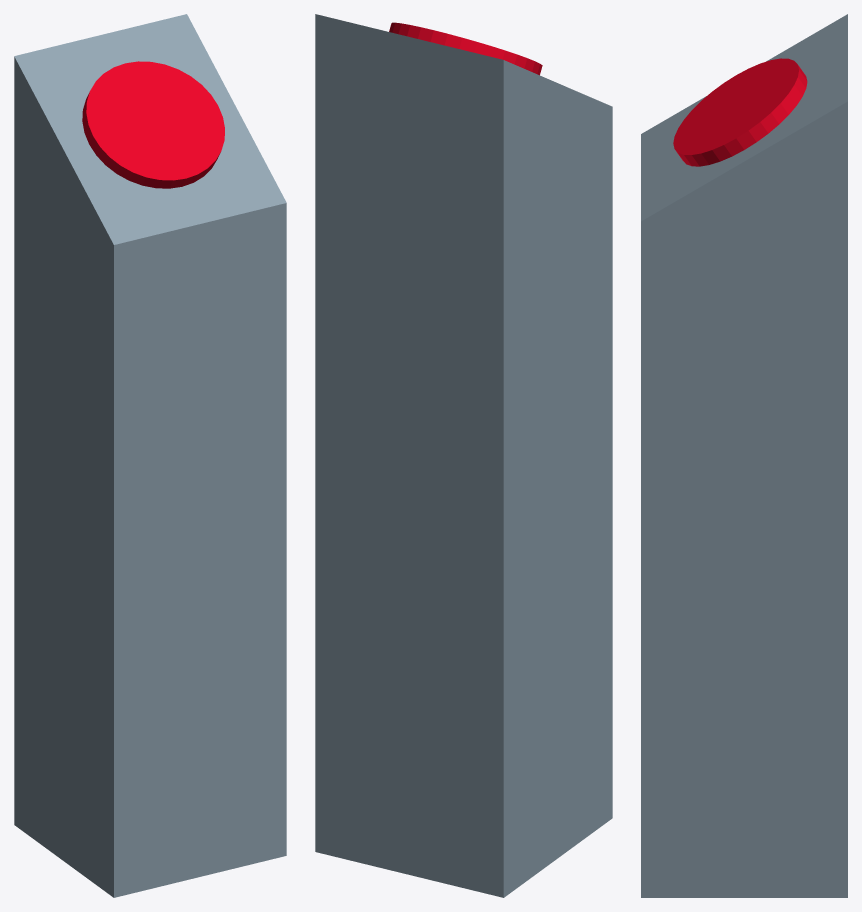
Rendered from button.glb.
The picture shows the model from 3 angles, left to right: view 1: azimuth 30°, elevation 25°; view 2: azimuth 150°, elevation 25°; view 3: azimuth 270°, elevation 25°; orthographic projection. The views are drawn at different scales.
Visible parts, largest first — view 1: Stand; view 2: Stand; view 3: Stand.
Boxes of the visible parts, bbox=[...] form: Stand: bbox=[14, 14, 286, 897]; Stand: bbox=[315, 14, 612, 897]; Stand: bbox=[641, 14, 847, 897].
Bounding box in the file's own units: 2 × 8.5 × 2.
